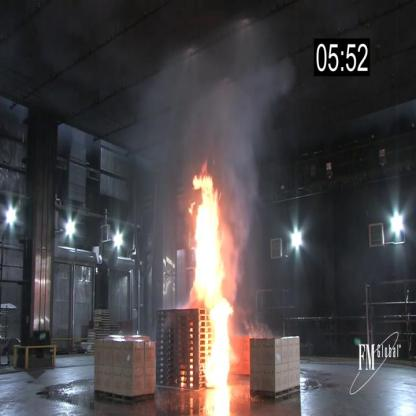fire: (188, 165, 235, 392)
